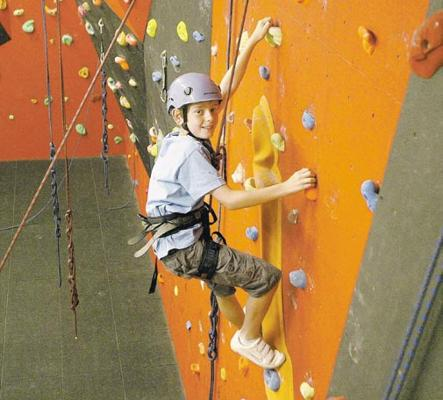person: (145, 15, 321, 370)
